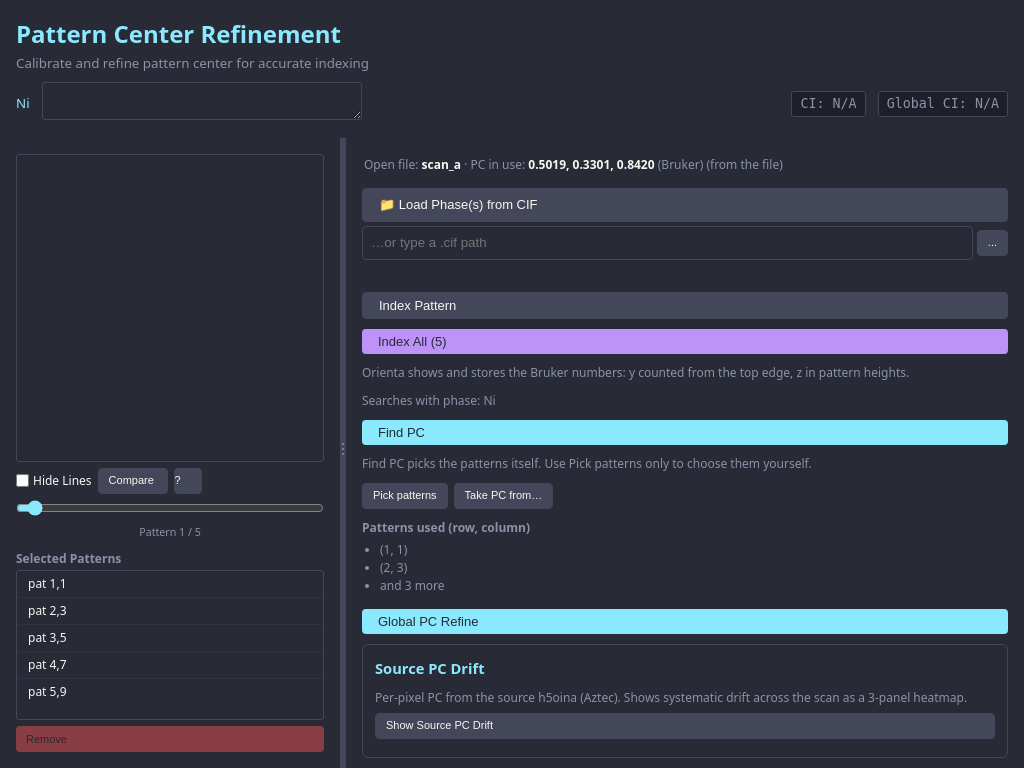
Test: Save as calibration (screen 5) › a refusal nameTaken of the backend is said in words
Click the button "Find PC" at (401,432), box [362,420,1008,445]
(page scrolled)
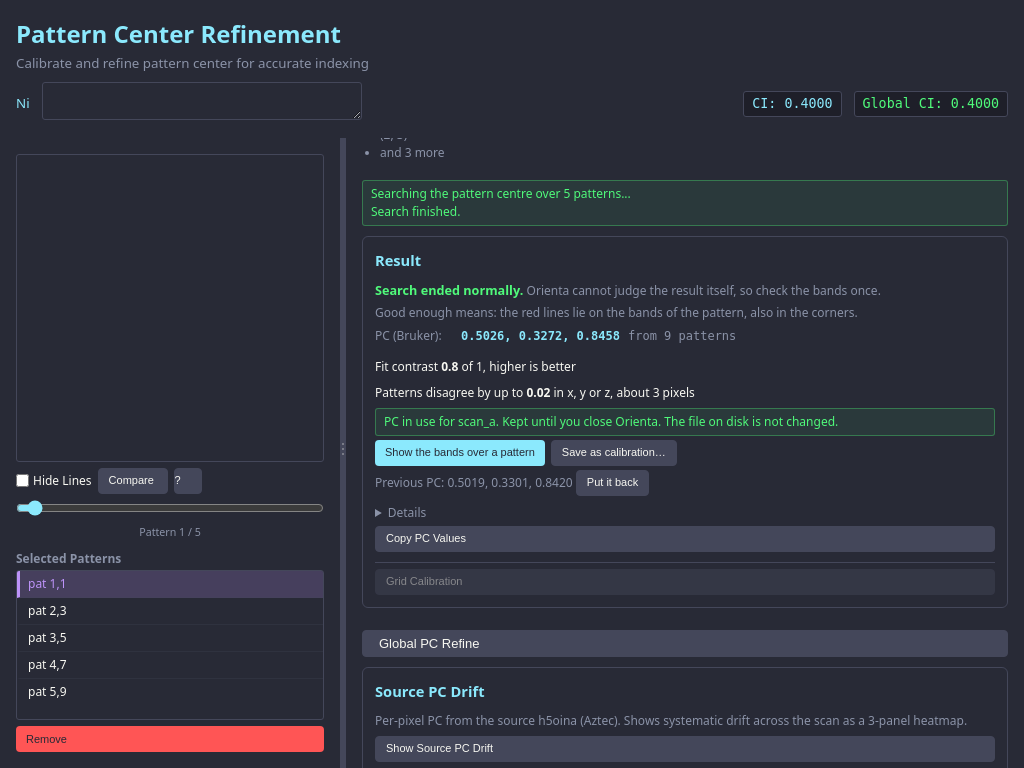
Click the button "Save as calibration…" at (614,453), box [551,440,677,466]
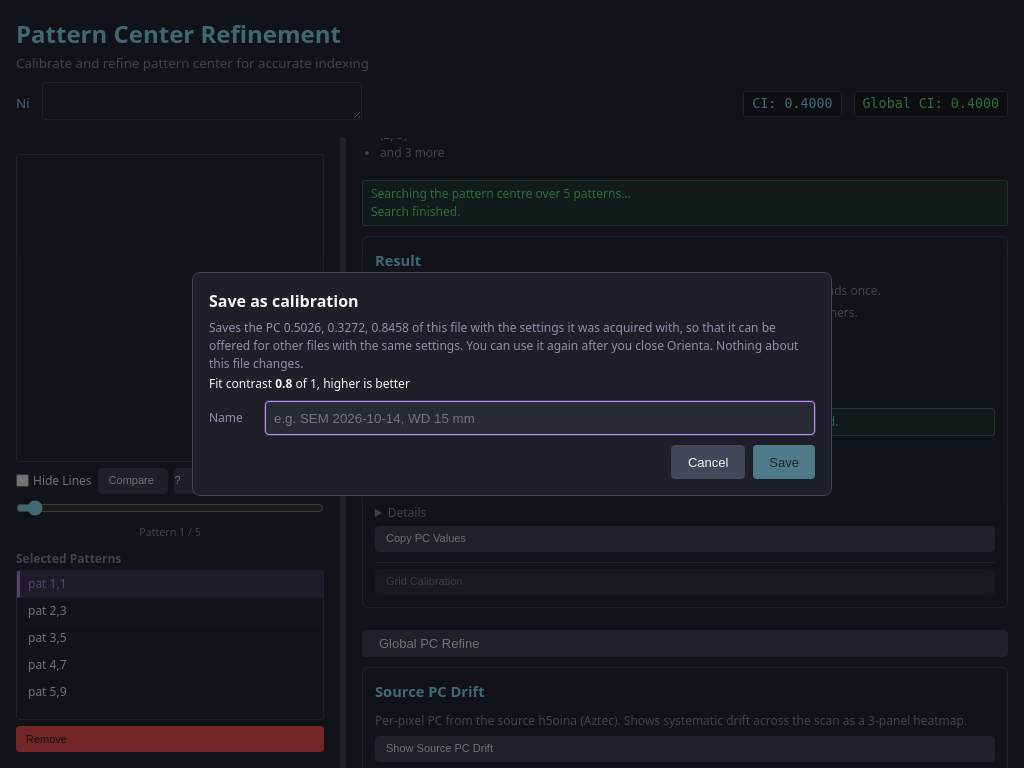
Type "Whatever" into the field labelled "Name" at (540,418), box [265,401,815,435]
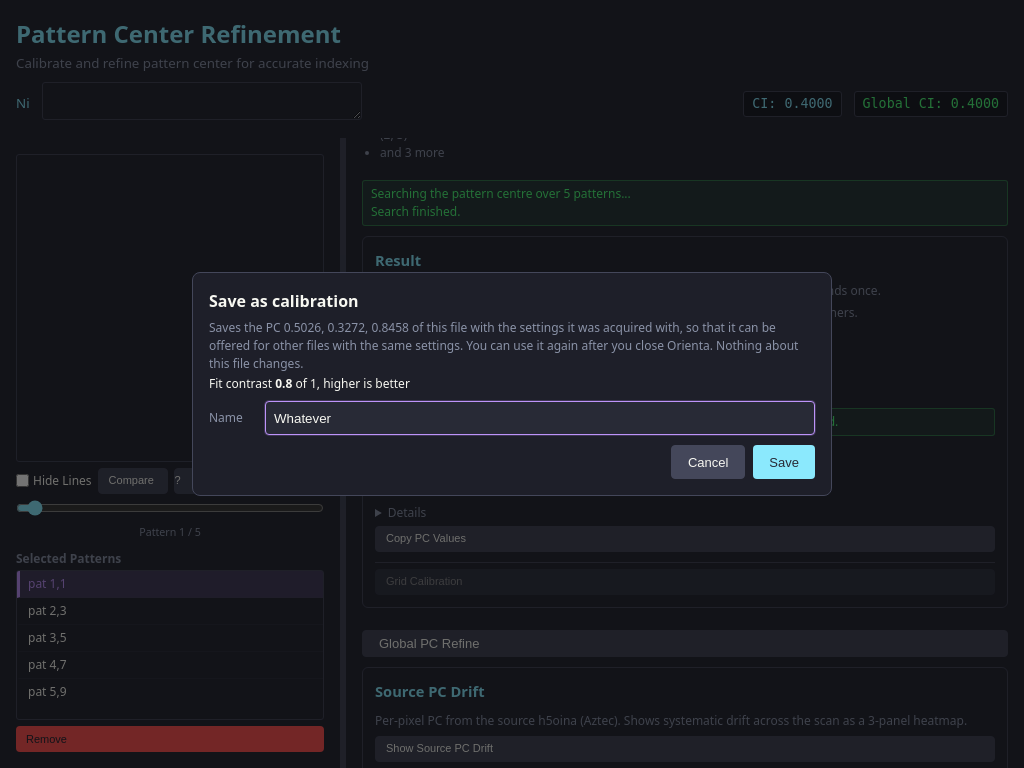
Click the button "Save" at (784,462), box [753,445,815,479]
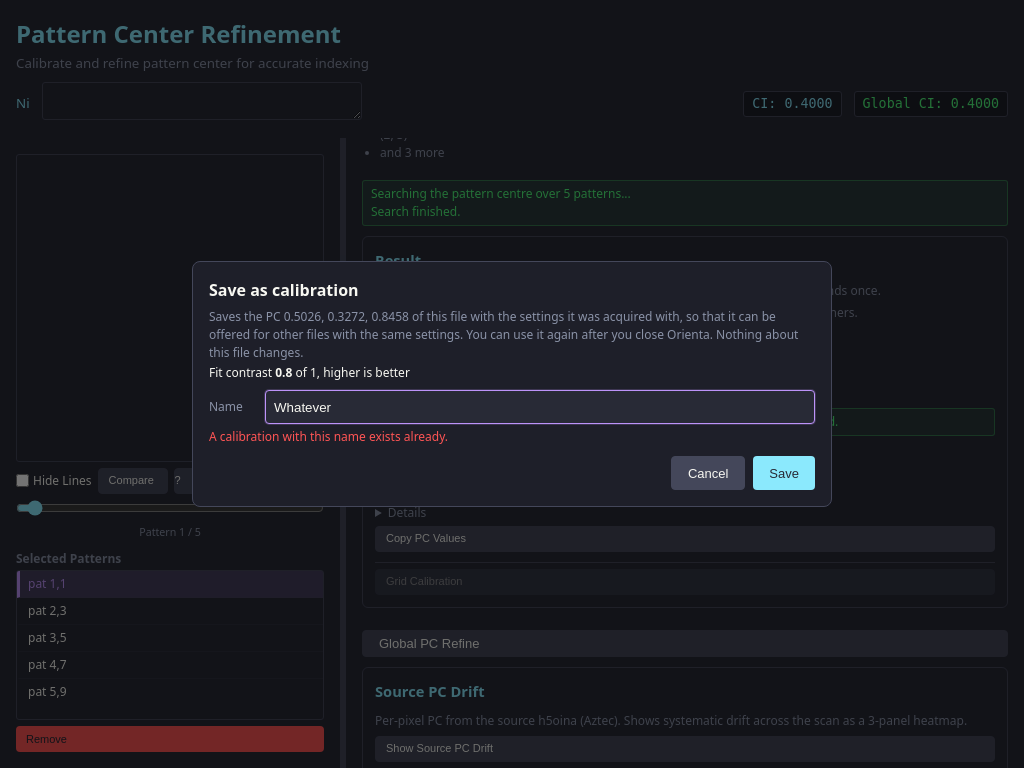
Now the message with test id "save-error" reads "A calibration with this name exists already.", box [209,428,448,445]
